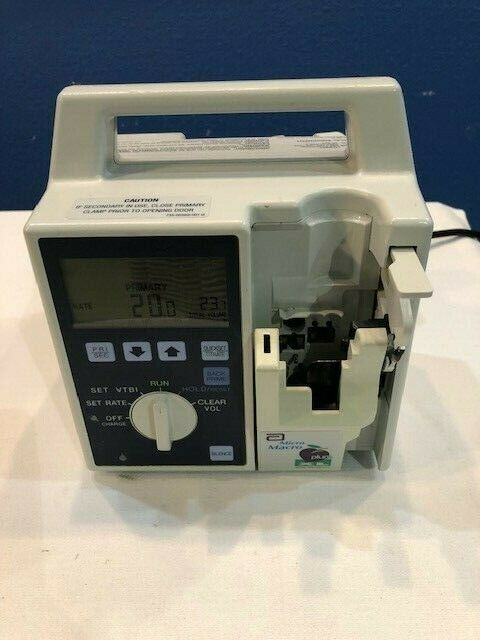plumxl1: (26, 78, 434, 480)
